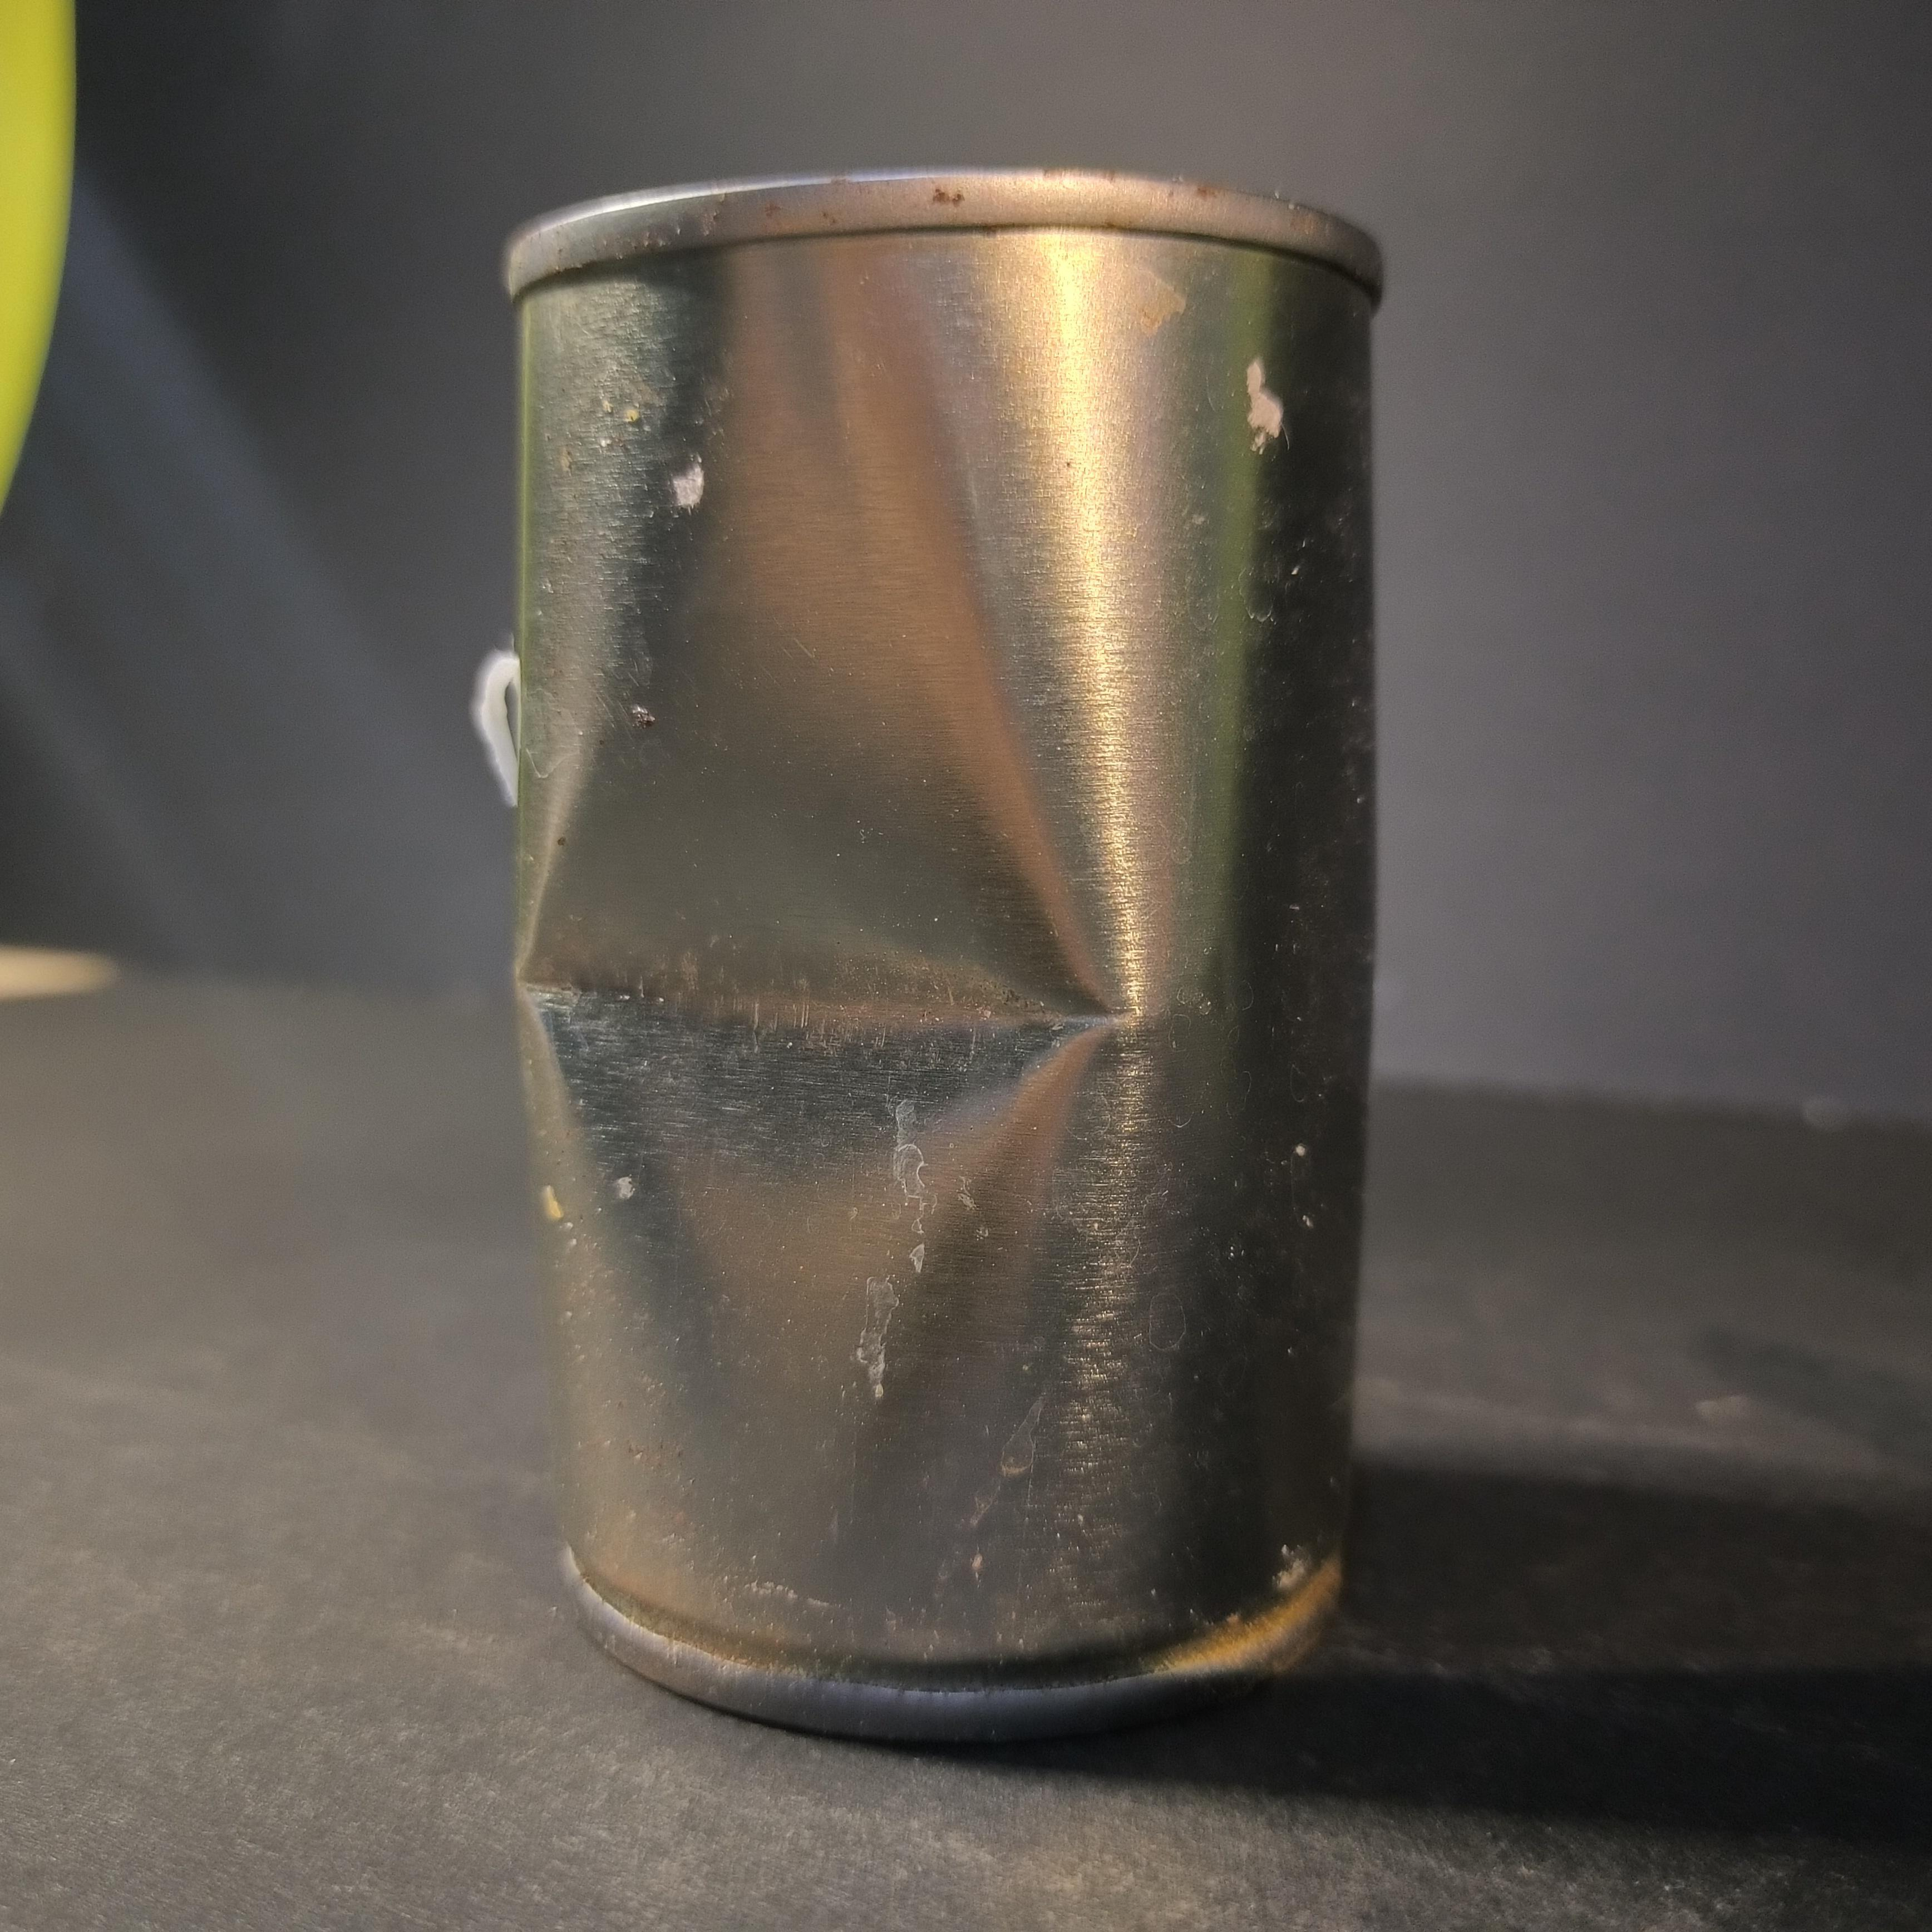Dented: (481, 131, 1415, 1753)
